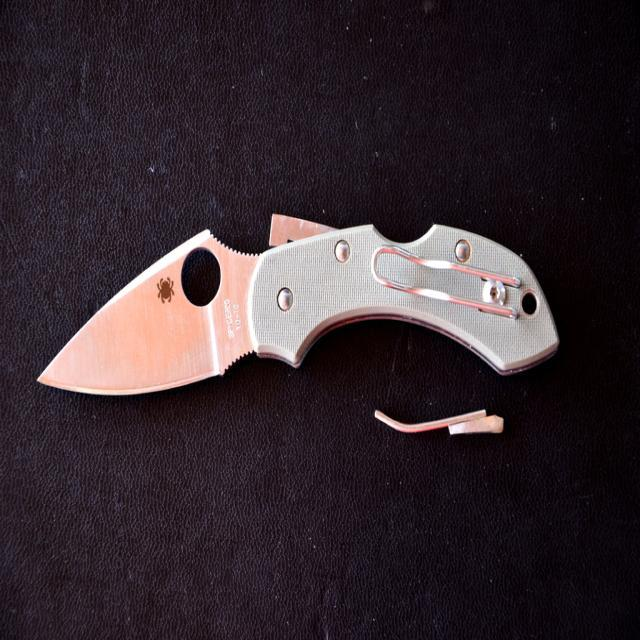Knife: (39, 215, 559, 394)
